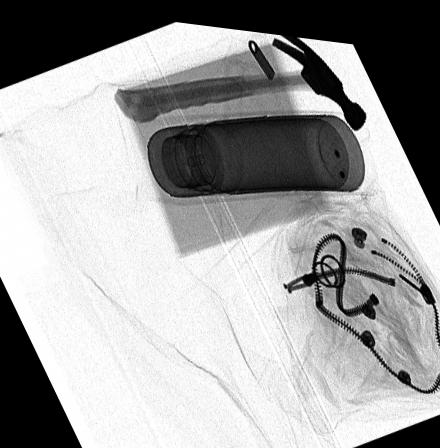Hammer: (111, 27, 367, 123)
